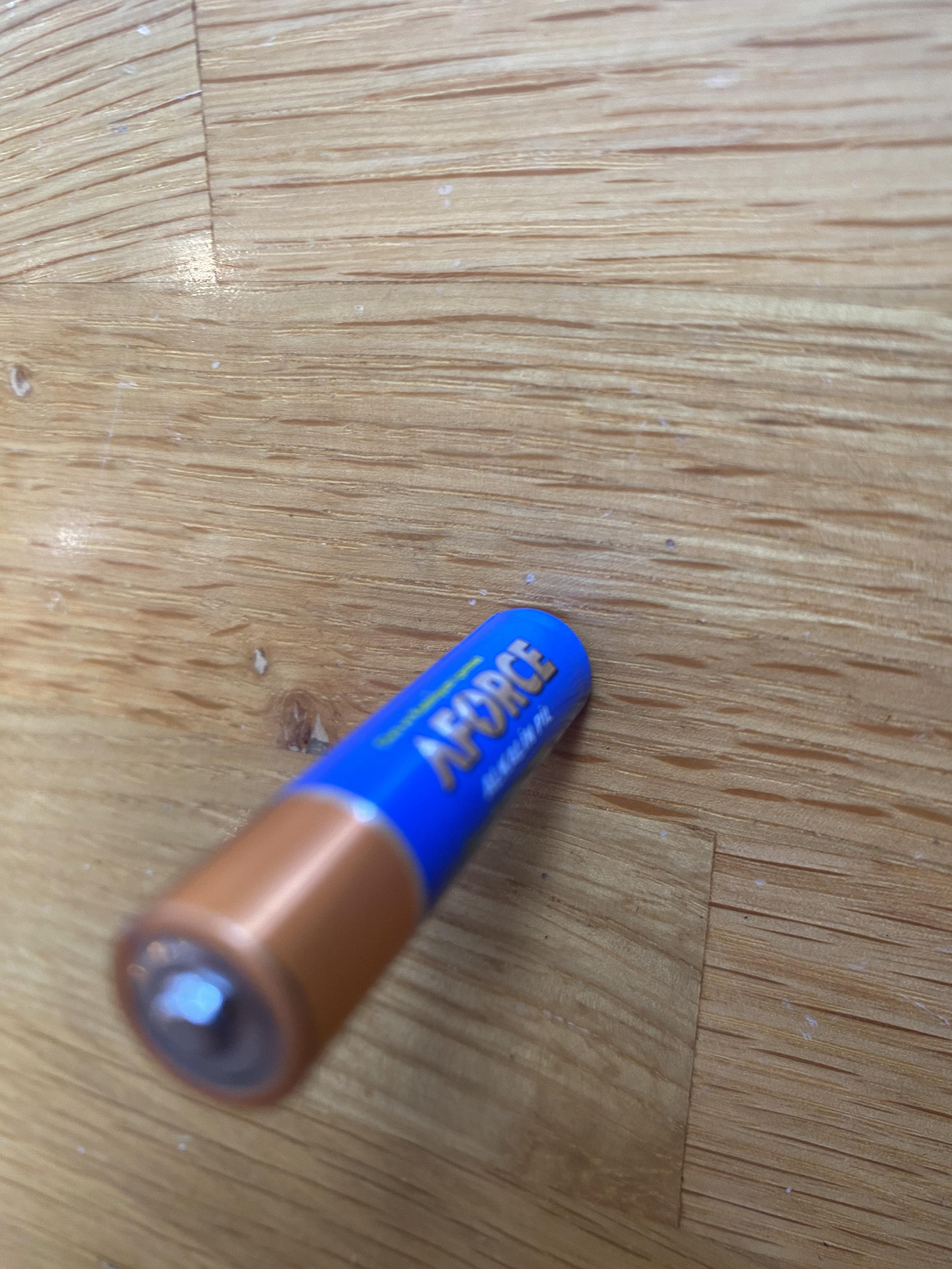AA: (104, 601, 599, 1118)
